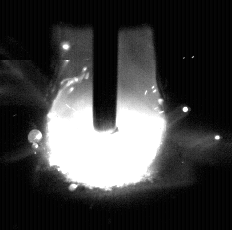arame: (93, 0, 118, 131)
poca: (45, 0, 164, 230)
